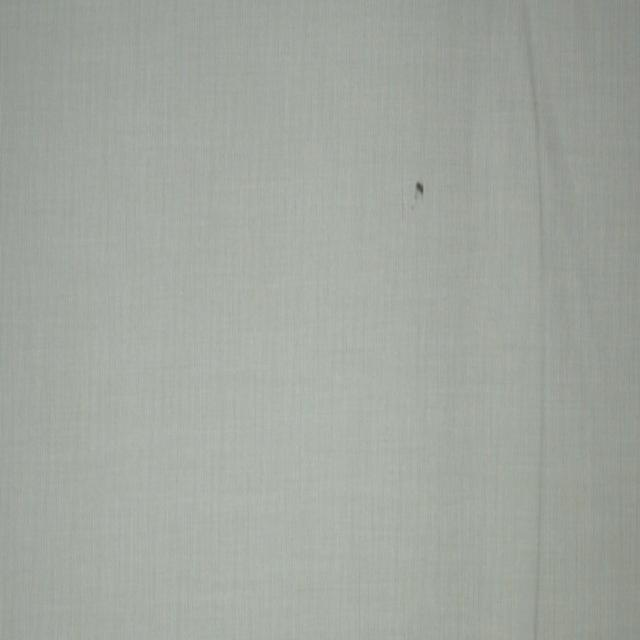dirty: (412, 177, 427, 201)
